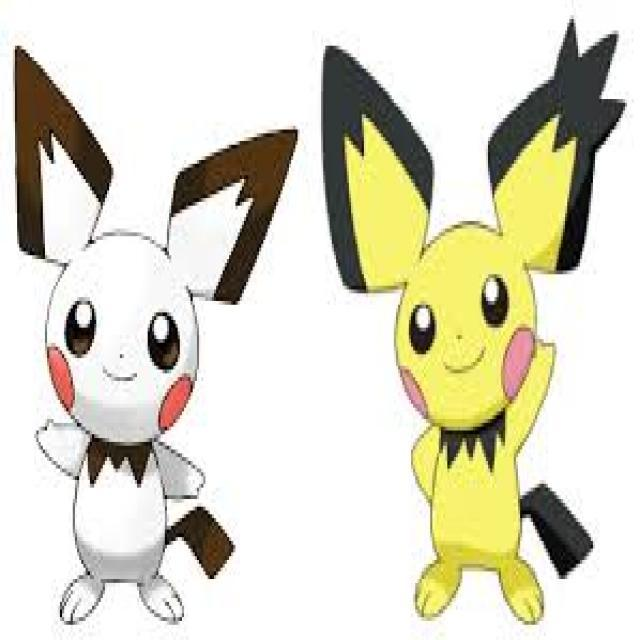pichu: (319, 16, 637, 620), (7, 36, 304, 640)
